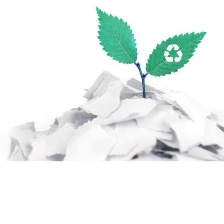book: (2, 70, 224, 162)
